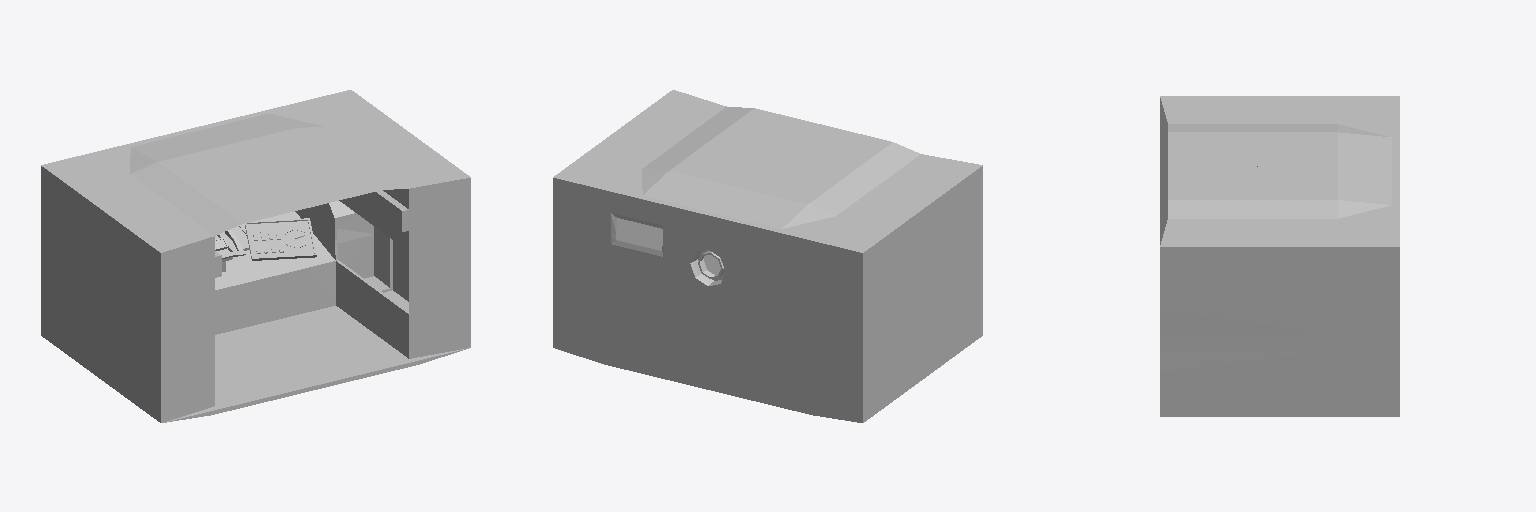
File: tenk2.obj
The picture shows the model from 3 angles: view 1: azimuth 30°, elevation 25°; view 2: azimuth 150°, elevation 25°; view 3: azimuth 270°, elevation 25°; orthographic projection.
Parts seen in each view (by area): view 1: Cube; view 2: Cube; view 3: Cube.
Part boxes in pixels (left/top/right/bottom): Cube: left=41, top=90, right=470, bottom=422; Cube: left=553, top=90, right=982, bottom=422; Cube: left=1160, top=96, right=1399, bottom=416.
Size of the model in its own units: 15.02 by 8.31 by 10.07.